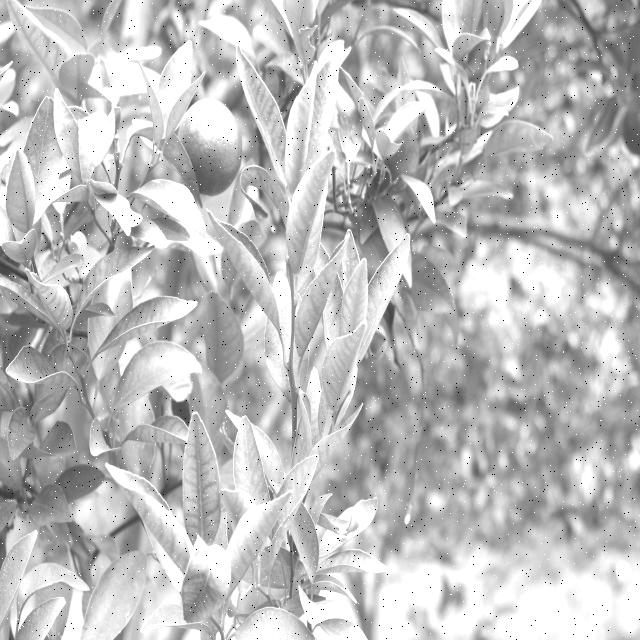greening: (217, 204, 285, 326), (178, 416, 218, 542), (240, 54, 285, 164), (289, 156, 331, 257), (324, 326, 367, 411), (181, 541, 230, 614), (345, 256, 370, 325)
